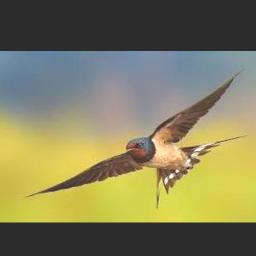Swallow: (25, 68, 247, 208)
